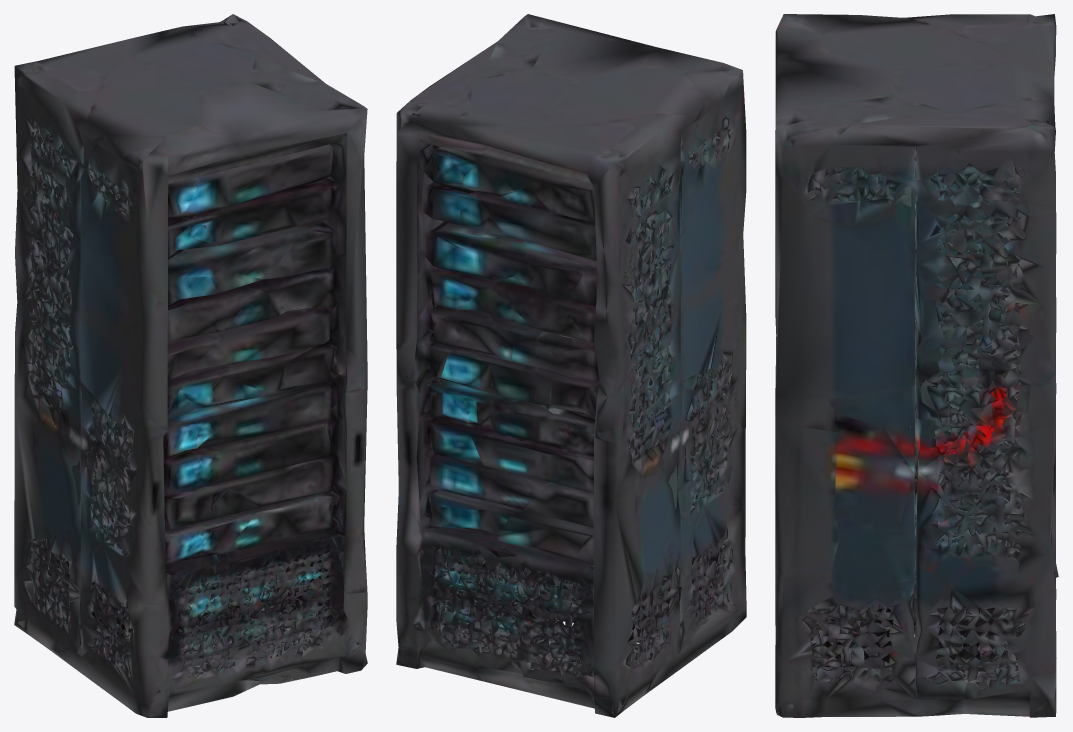
The model's file is server.min.glb.
3 views of the same model, side by side, from view 1: azimuth 30°, elevation 25°; view 2: azimuth 150°, elevation 25°; view 3: azimuth 270°, elevation 25° (orthographic). The views are drawn at different scales.
Bounding box in the file's own units: 0.7982 × 1.89 × 0.8227.
1 material, 1 textured.
